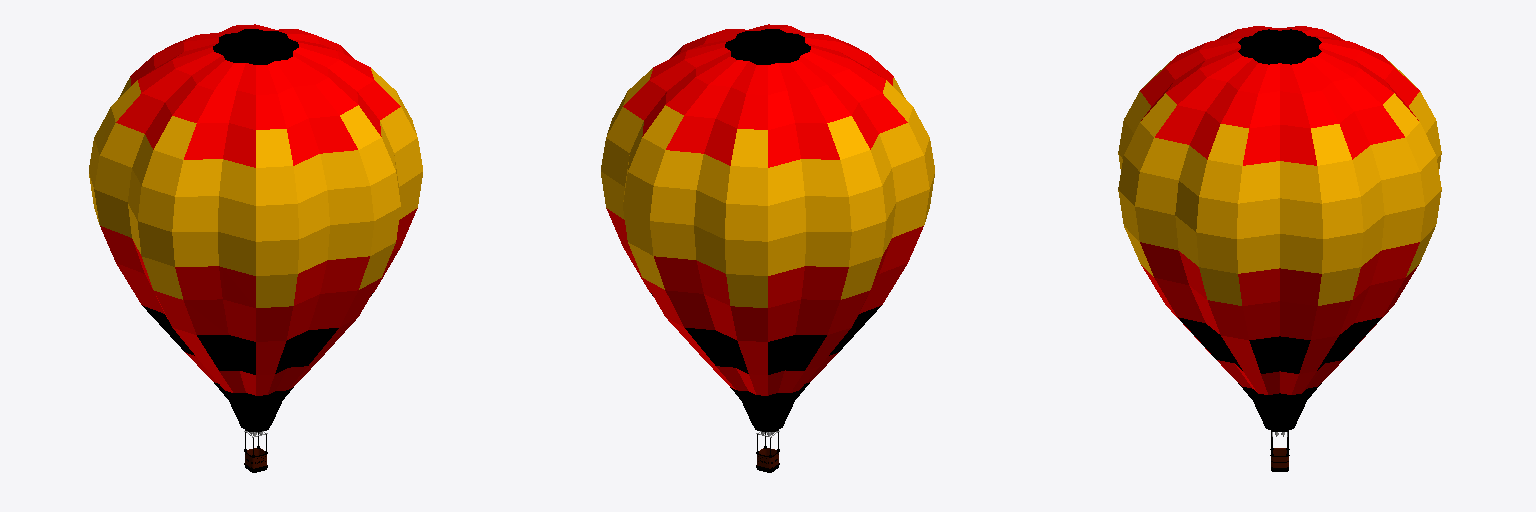
File: realSizeBalloon1.obj
3 renders of one model, left to right at view 1: azimuth 30°, elevation 25°; view 2: azimuth 150°, elevation 25°; view 3: azimuth 270°, elevation 25°, orthographic.
Visible parts, largest first — view 1: Sphere, Circle; view 2: Sphere, Circle; view 3: Sphere, Circle.
Part boxes in pixels (bbox=[...]): Sphere: bbox=[89, 24, 422, 431]; Circle: bbox=[244, 431, 267, 472]; Sphere: bbox=[601, 24, 934, 431]; Circle: bbox=[756, 431, 779, 472]; Sphere: bbox=[1118, 26, 1441, 431]; Circle: bbox=[1270, 431, 1289, 471].
Size of the model in its own units: 16.71 by 24.31 by 16.71.